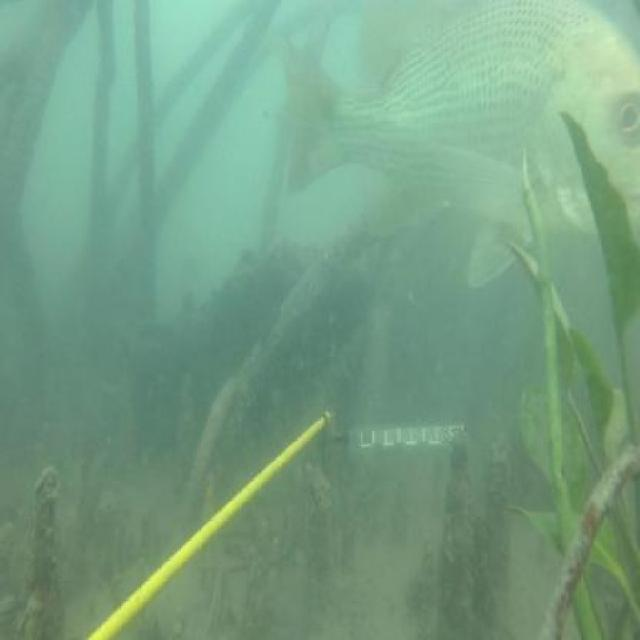lutjanus_johnii: (267, 0, 640, 294)
